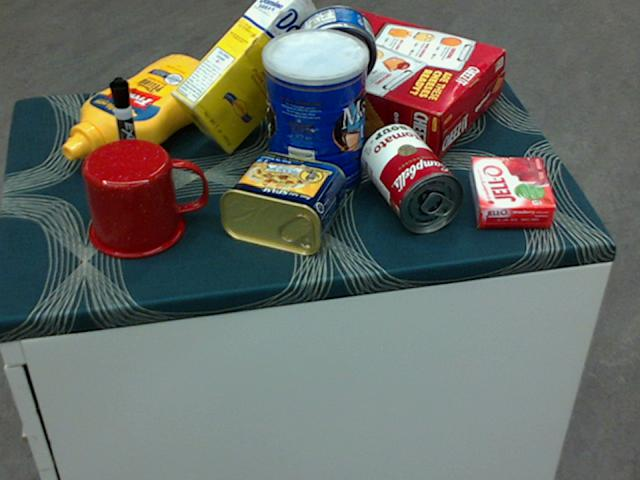cracker_box: (272, 5, 503, 161)
gelatin_box: (467, 157, 555, 226)
large_marker: (108, 78, 144, 187)
master_chef_can: (261, 29, 367, 200)
mug: (83, 137, 207, 258)
mustard_bottle: (61, 54, 223, 160)
potted_meat_can: (218, 152, 344, 254)
sugar_box: (169, 0, 333, 155)
tomato_soup_can: (361, 122, 463, 232)
tuna_fish_can: (294, 4, 377, 88)
